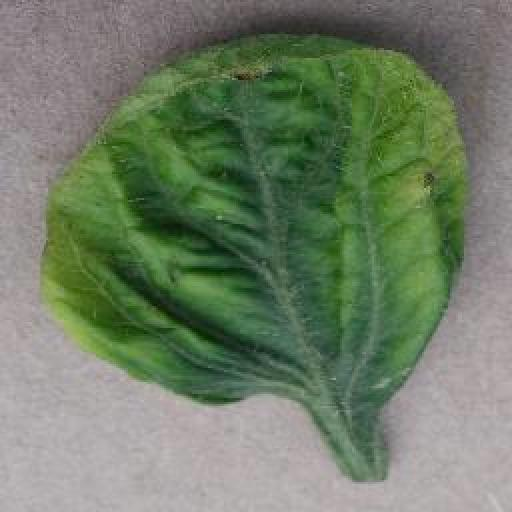disease_tomato: (40, 25, 470, 403)
